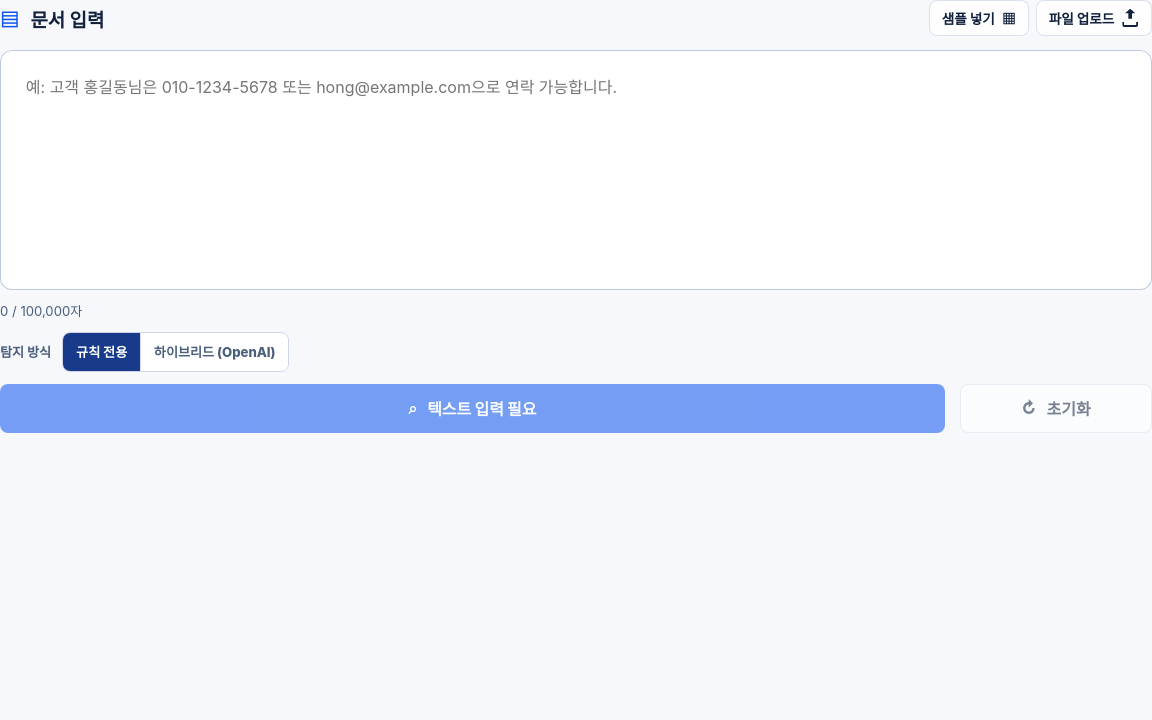
Scenario: InputPanel sample picker popup (예제 갤러리가 페이지 섹션에서 팝업으로 이동, #553 후속) › opens a dialog with the sample cards when the sample button is clicked
Click the button "샘플 넣기 ▦": point(979, 18) [929,0,1028,36]
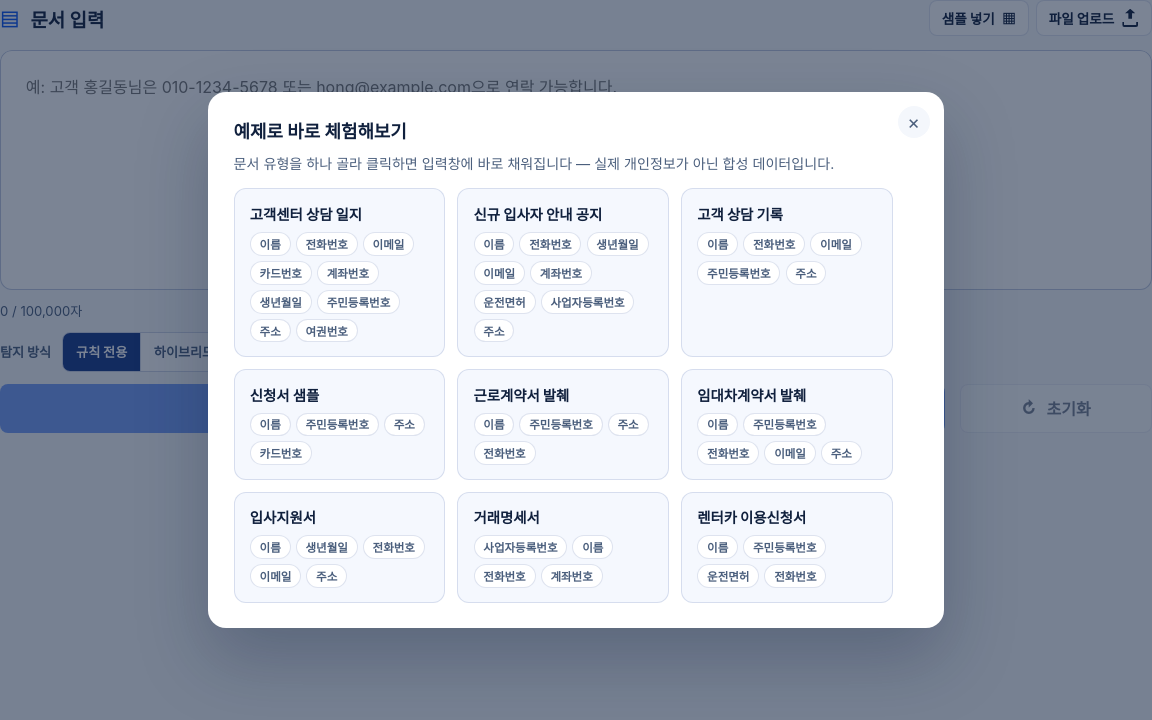
Expected: the dialog named "샘플 문서 고르기" shows "고객 상담 기록", [681,188,893,357]
